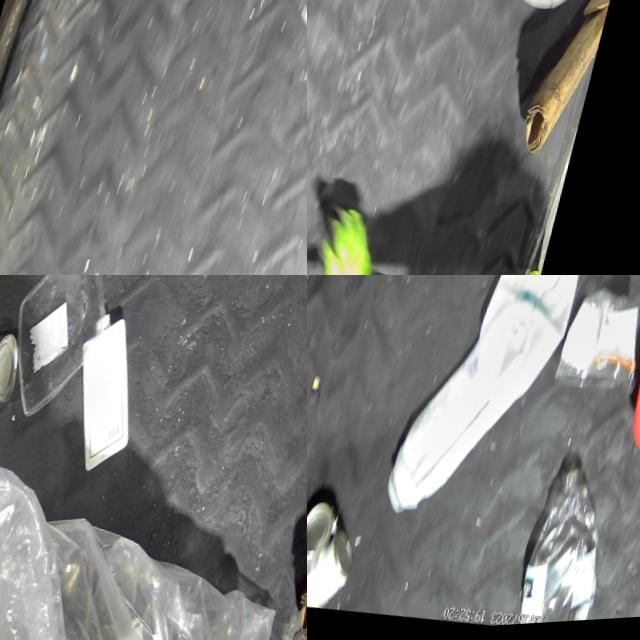can: (307, 491, 383, 615), (0, 330, 31, 427)
milk_jug: (463, 275, 606, 422), (56, 309, 166, 483)
plastic_bottle: (521, 459, 640, 628)
